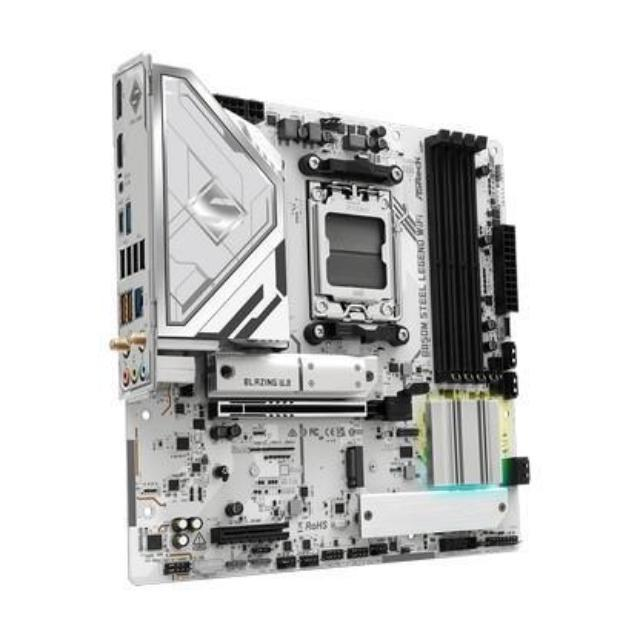Mainboard: (109, 44, 534, 584)
